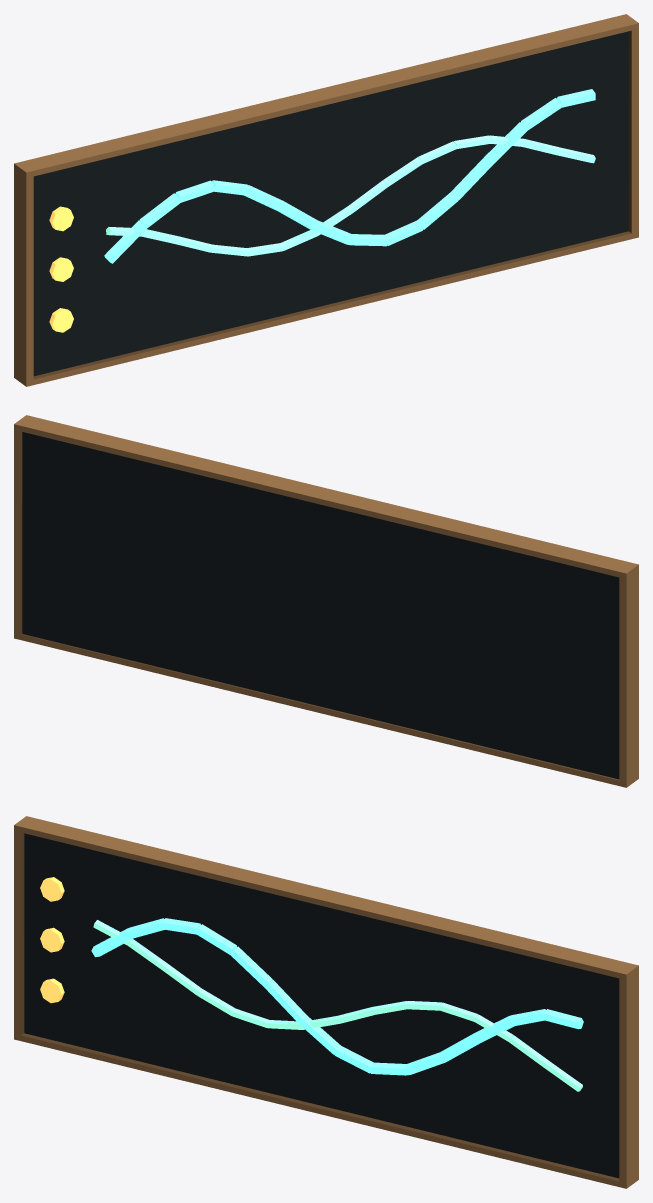
The model's file is neon-wave.lod1.glb.
3 renders of one model, top to bottom at view 1: azimuth 30°, elevation 25°; view 2: azimuth 150°, elevation 25°; view 3: azimuth 330°, elevation 25°, orthographic.
Visible parts, largest first — view 1: structure; view 2: structure; view 3: structure.
Boxes of the visible parts, x1,y1,x2,y2 form: structure: (14, 14, 638, 386); structure: (14, 415, 638, 787); structure: (14, 816, 638, 1188).
Bounding box in the file's own units: 3.41 × 1.14 × 0.1442.
